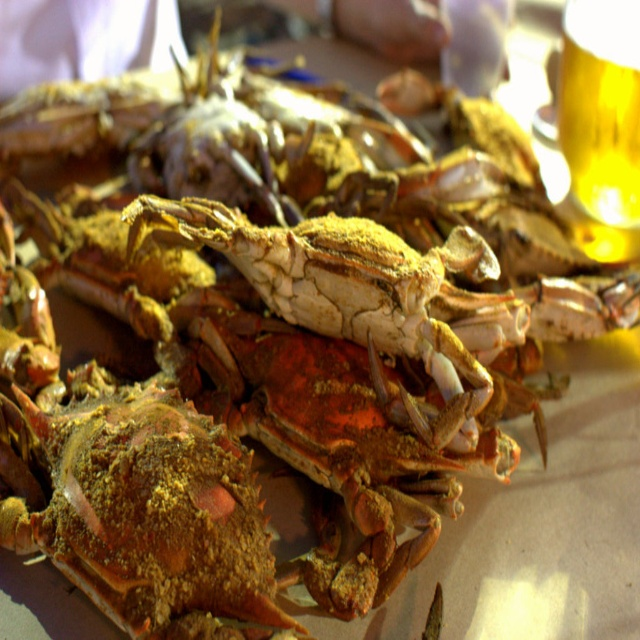Crab: (0, 7, 639, 639)
